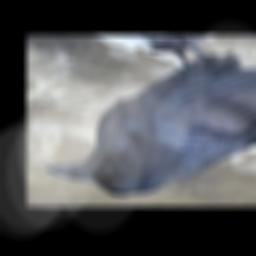Crow: (45, 35, 256, 196)
